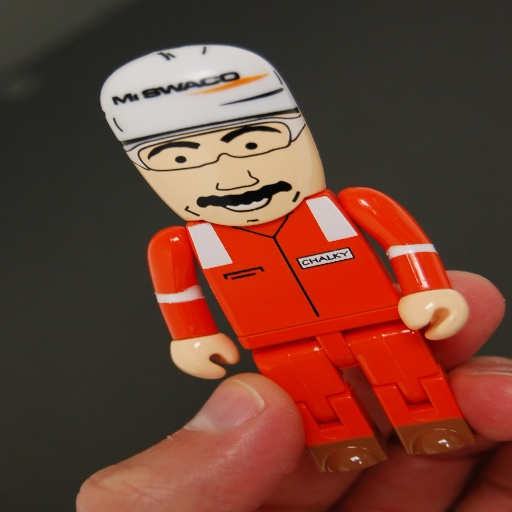hand: (76, 271, 511, 511), (394, 285, 470, 343), (168, 331, 242, 380)
